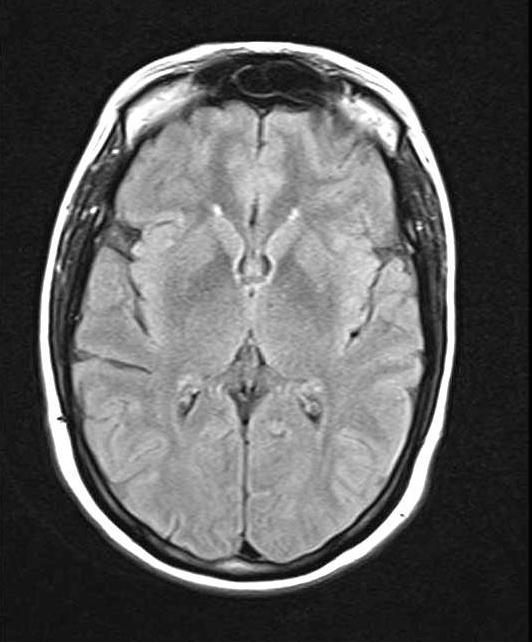Normal_Brain: (1, 1, 532, 642)
